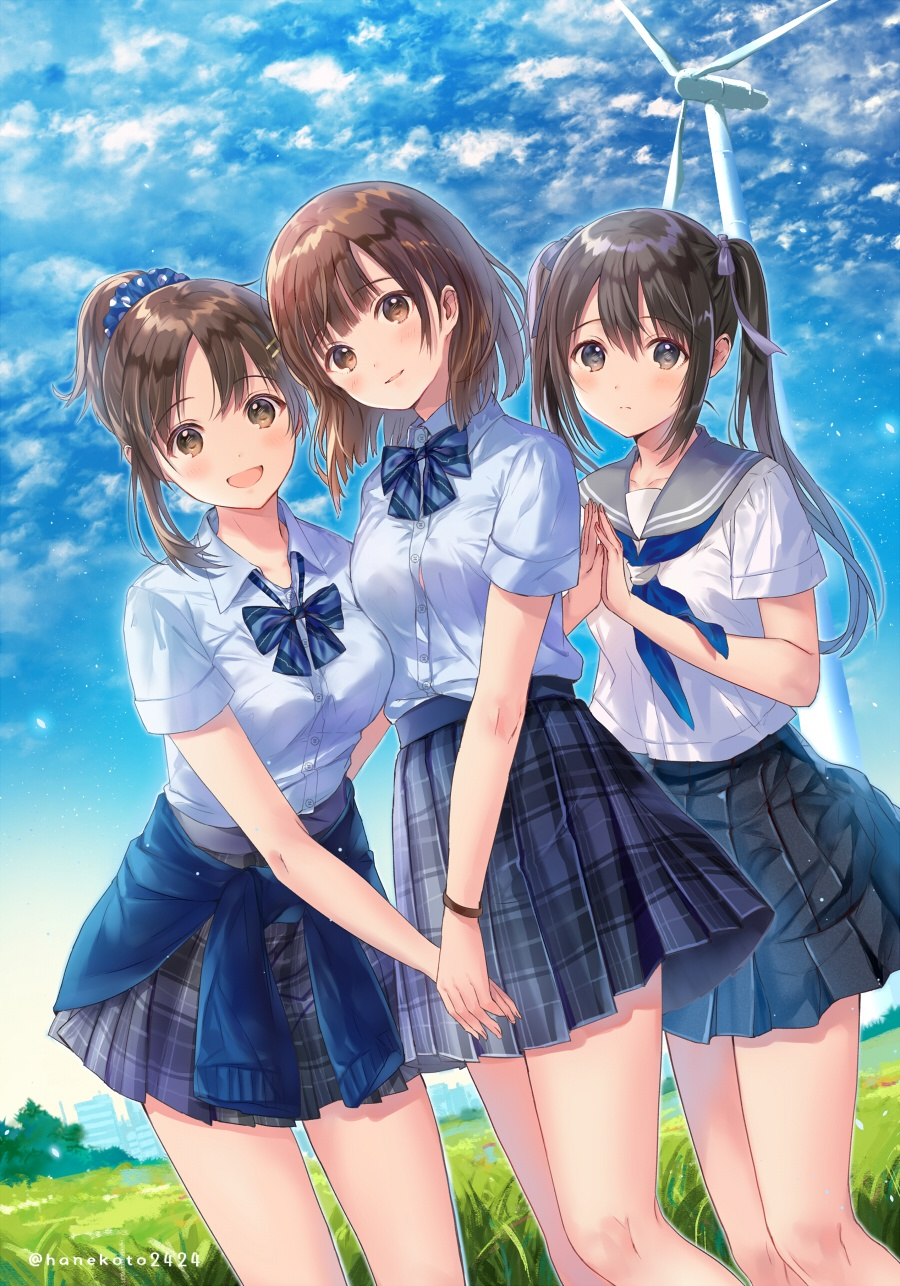纸片人正脸: (68, 268, 315, 527), (521, 199, 772, 453), (260, 179, 513, 430)
